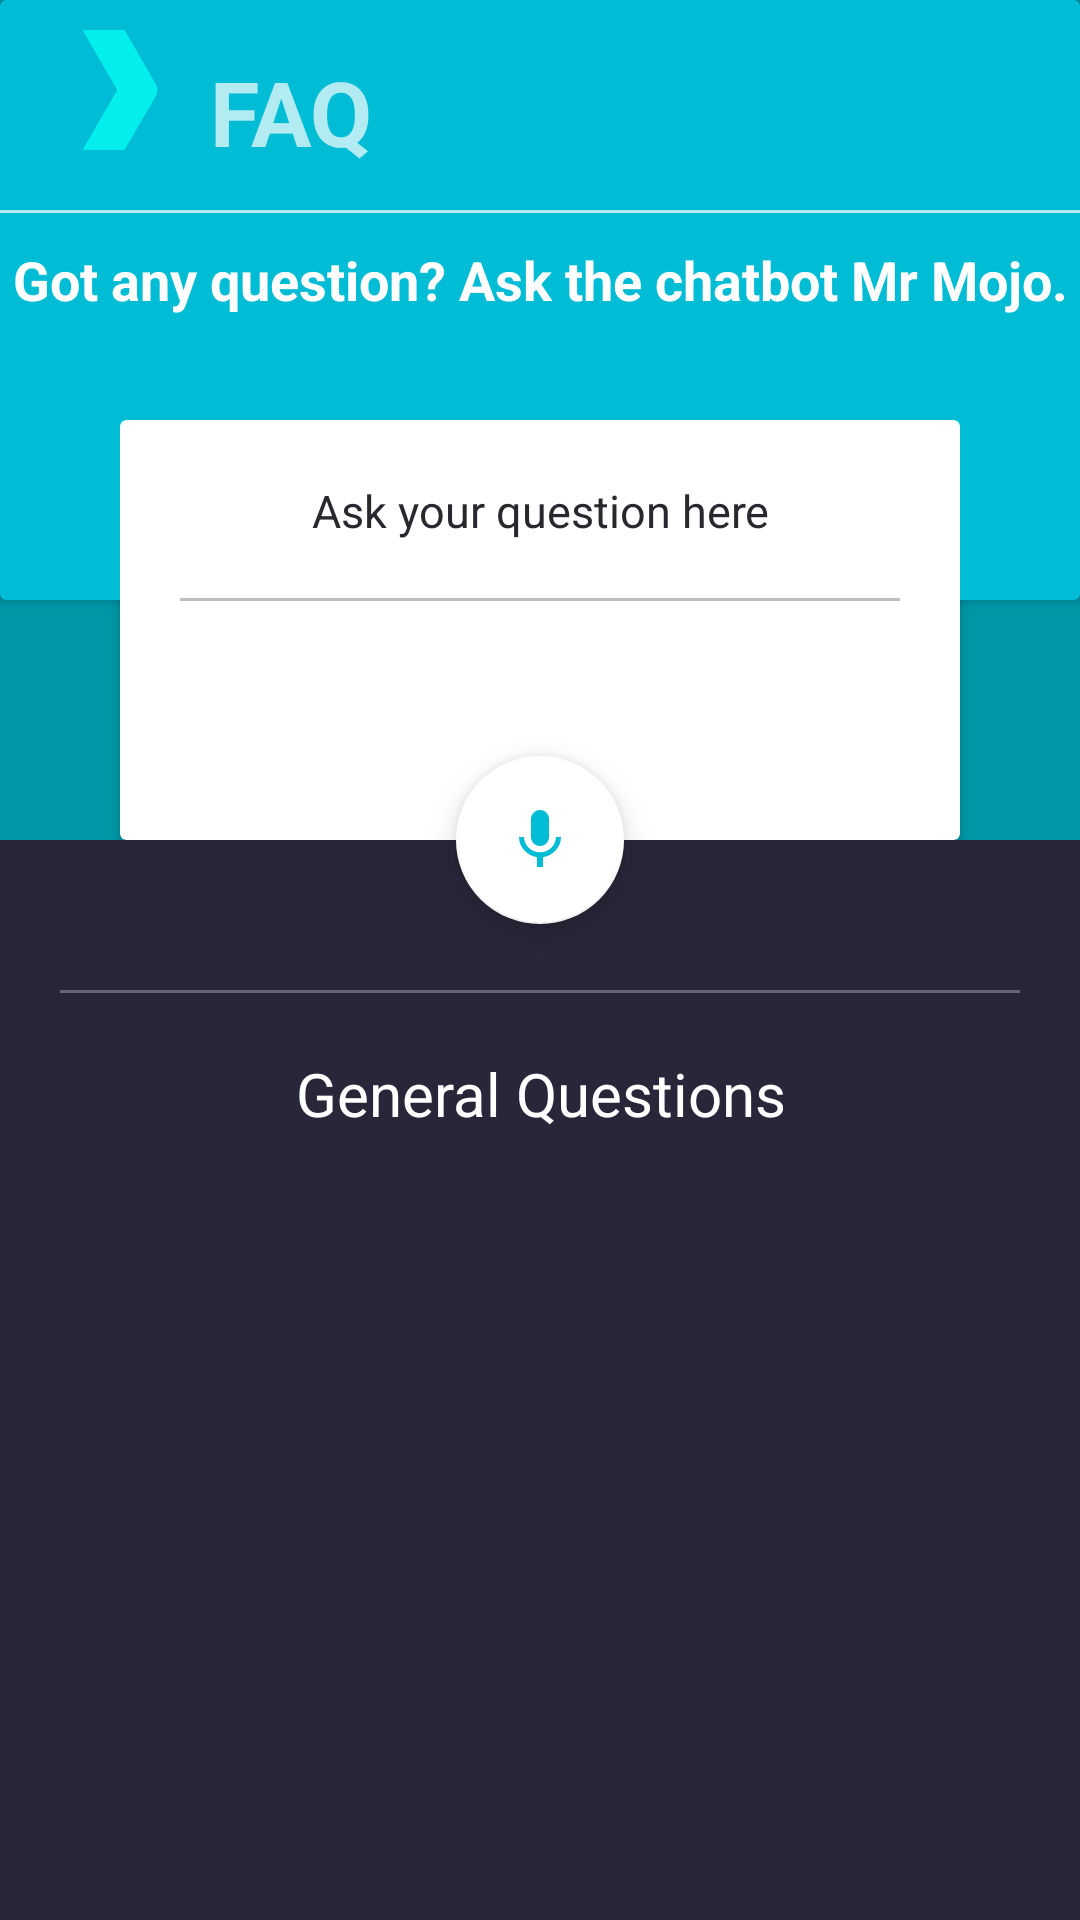

Named icons in this screenshot (1080 x 1920) and their centers, point (x, y):
mic: point (540, 840)
